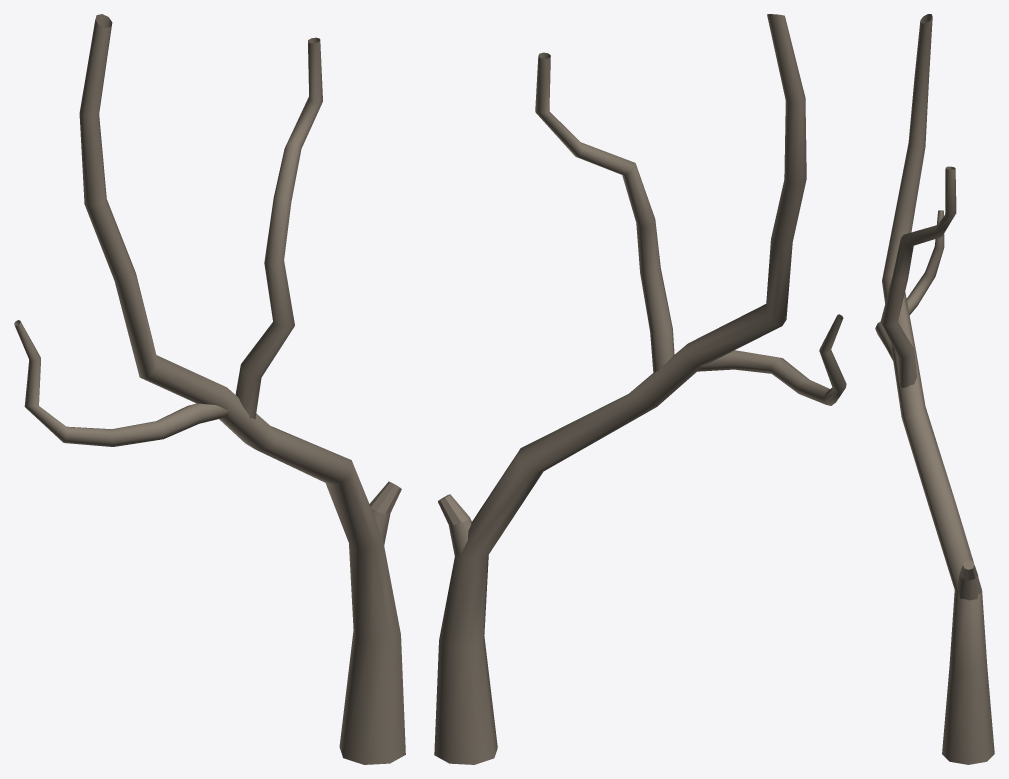
File: school_sakura tree.fbx
The picture shows the model from 3 angles, left to right: view 1: azimuth 30°, elevation 25°; view 2: azimuth 150°, elevation 25°; view 3: azimuth 270°, elevation 25°; orthographic projection. The views are drawn at different scales.
Visible parts, largest first — view 1: sweep9; view 2: sweep9; view 3: sweep9.
Part boxes in pixels (x1=…): sweep9: x1=14, y1=14, x2=405, y2=764; sweep9: x1=434, y1=14, x2=846, y2=764; sweep9: x1=875, y1=14, x2=994, y2=764.
Bounding box in the file's own units: 3.8 × 7.4 × 1.28.
